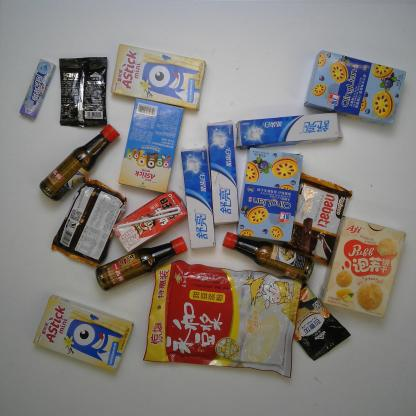Candy: (19, 59, 57, 122)
Dessert: (320, 215, 406, 319), (32, 295, 135, 374), (304, 49, 406, 125), (51, 177, 128, 272), (235, 146, 307, 244), (286, 170, 354, 266), (118, 99, 186, 194), (112, 43, 205, 112)
Instant Drink: (141, 263, 308, 380), (290, 283, 352, 364), (59, 56, 111, 128)
Milk: (113, 189, 187, 257)
Personal Hygiene: (233, 112, 342, 149), (205, 120, 242, 226), (181, 147, 217, 251)
Seasoner: (39, 123, 121, 202), (94, 237, 186, 292), (223, 231, 315, 283)
